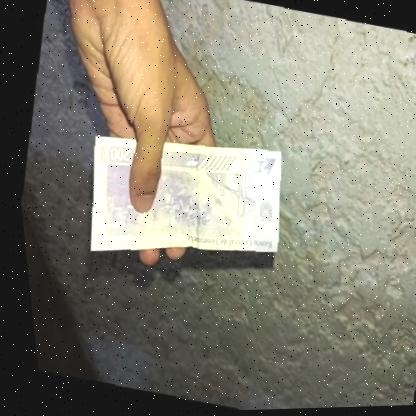two_hundred-back-vef: (65, 113, 297, 290)
